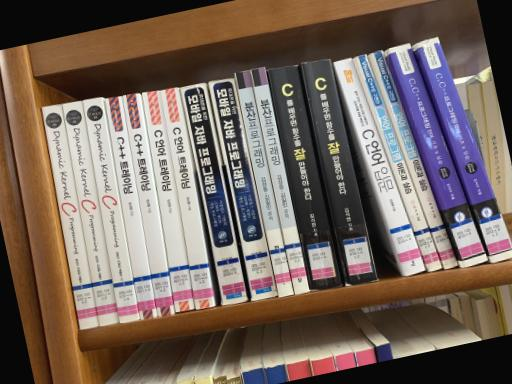book-spine: (388, 43, 489, 268), (415, 37, 512, 264), (333, 58, 426, 277), (355, 54, 443, 272), (371, 50, 458, 270), (301, 60, 379, 286), (268, 65, 344, 291), (209, 78, 279, 302), (179, 82, 249, 305), (235, 70, 293, 297), (251, 67, 309, 294), (83, 98, 141, 323), (42, 104, 99, 329), (63, 101, 119, 327), (160, 87, 216, 309), (142, 89, 195, 313), (122, 93, 175, 316), (106, 96, 156, 319)
